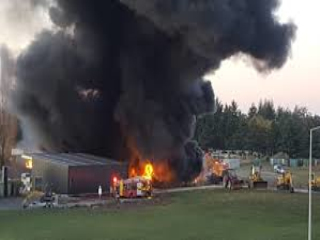fire: (136, 163, 160, 181)
smoke: (39, 1, 203, 174), (195, 5, 297, 86)
